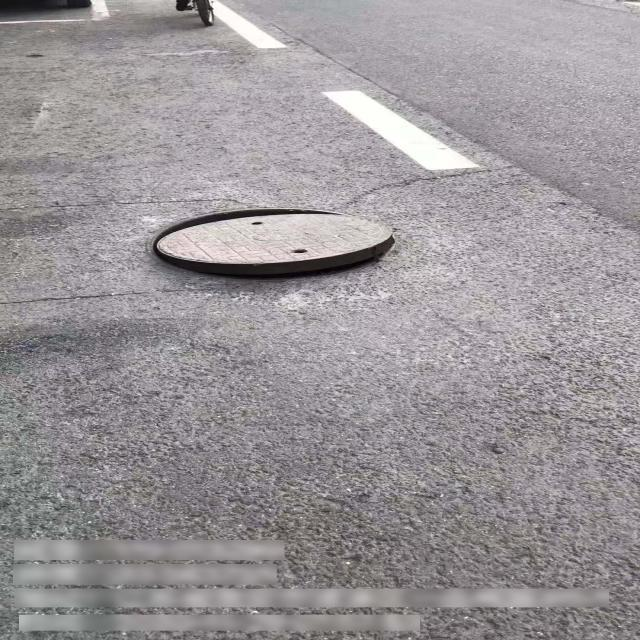Faulty: (144, 204, 398, 280)
